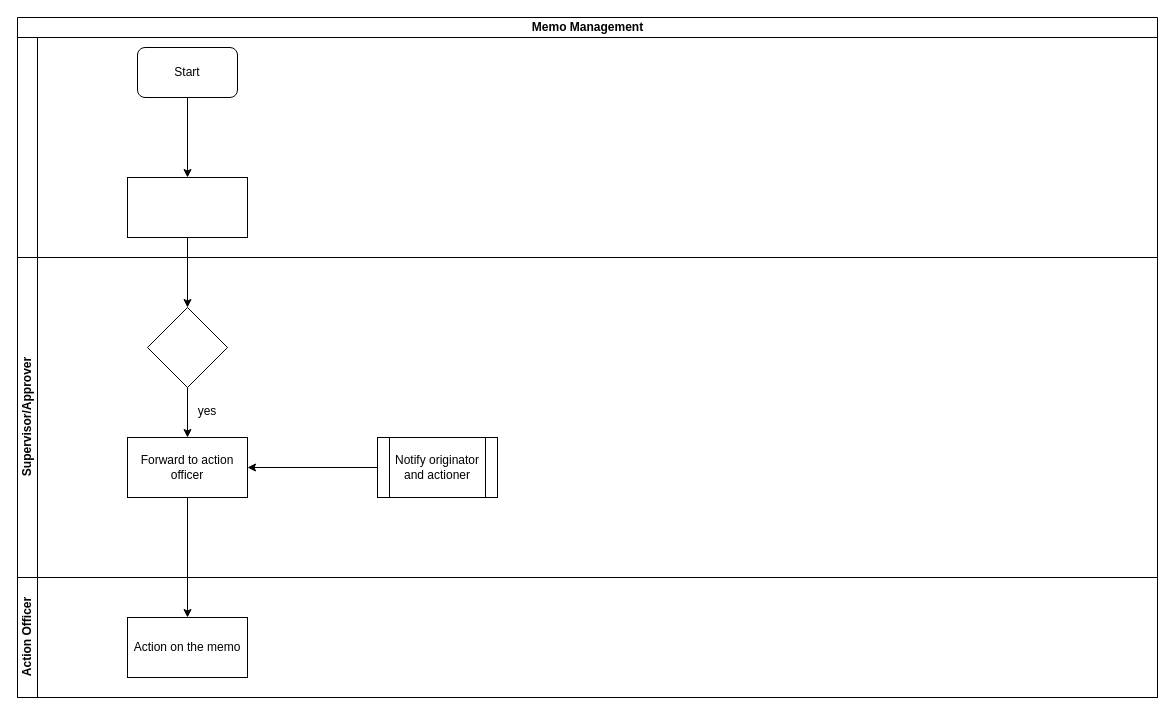
Some shapes in this 1175 by 715 pixel diagram are drawn without their labels. The box of each missing label's shape, as (x1, y1, x2, y2) in pixels:
Approved?: (146, 306, 228, 388)
Create a Memo: (126, 176, 248, 238)
Staff/Originator: (16, 36, 1158, 258)
